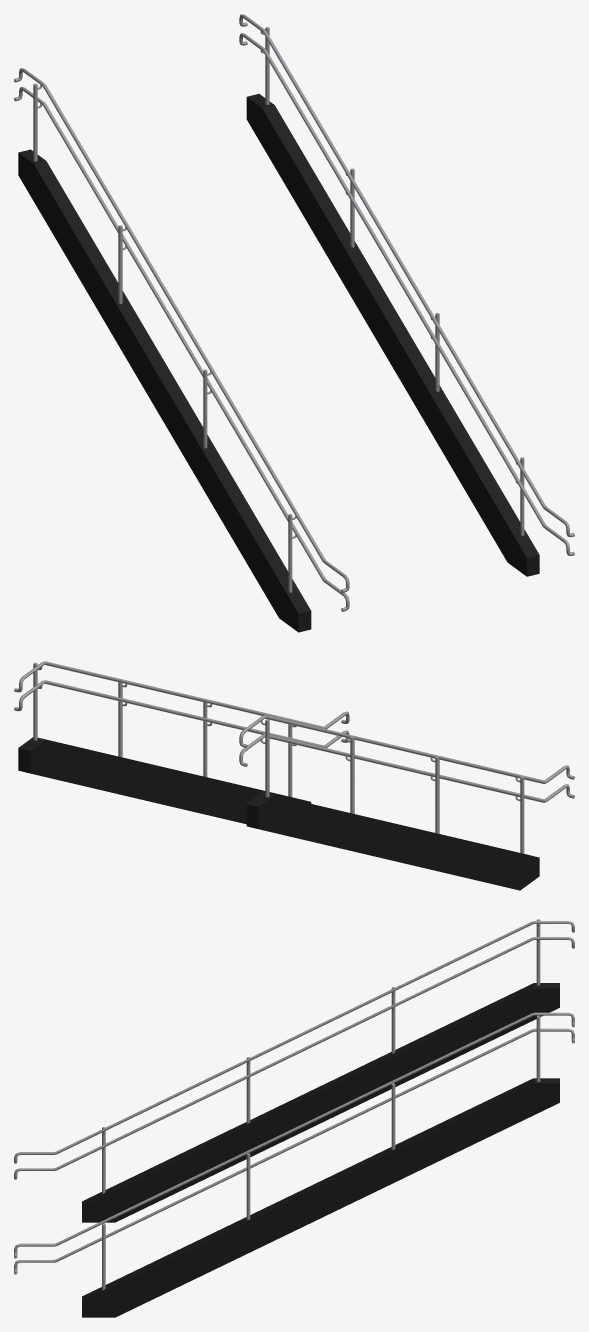
File: gteki_stair_rails_w2400_n18_both.glb
3 views of the same model, one above another, from view 1: azimuth 30°, elevation 25°; view 2: azimuth 150°, elevation 25°; view 3: azimuth 270°, elevation 25° (orthographic). The views are drawn at different scales.
Visible parts, largest first — view 1: VIS_body; view 2: VIS_body; view 3: VIS_body.
Boxes of the visible parts, x1,y1,x2,y2 form: VIS_body: (14, 14, 574, 632); VIS_body: (14, 661, 574, 890); VIS_body: (14, 919, 574, 1317).
Bounding box in the file's own units: 2.68 × 3.75 × 6.34.
Materials: 1 (1 with a texture image).
